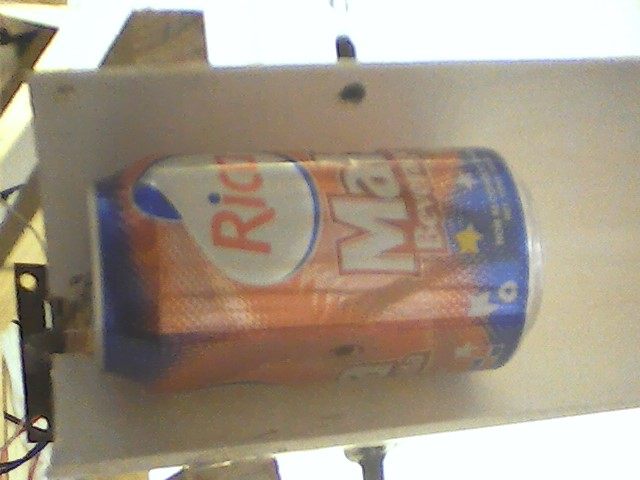lata: (83, 143, 548, 393)
